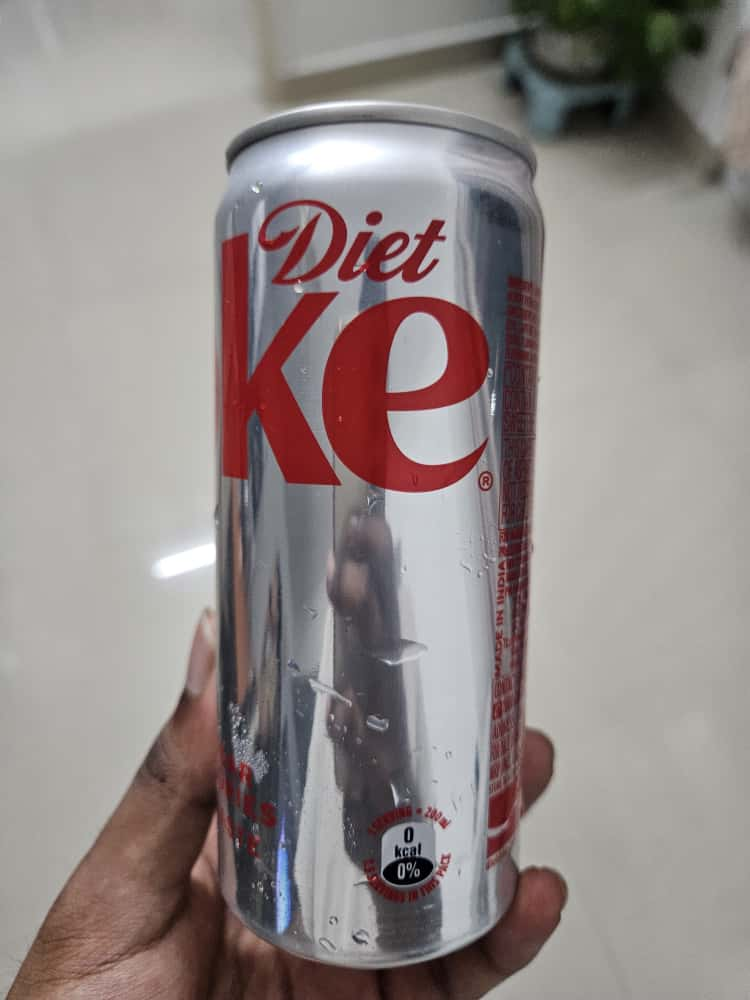dry: (183, 125, 554, 965)
